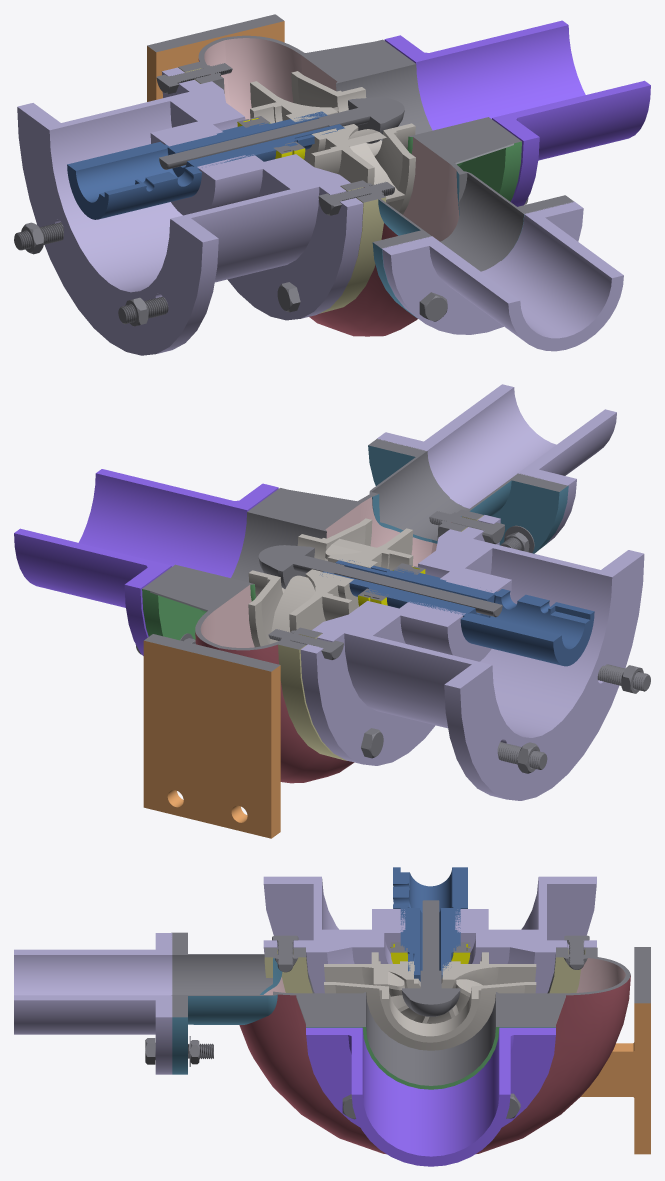
Rendered from Pump xsection-fbx.fbx.
3 views of the same model, one above another, from view 1: azimuth 30°, elevation 25°; view 2: azimuth 150°, elevation 25°; view 3: azimuth 270°, elevation 25° (orthographic). The views are drawn at different scales.
Visible parts, largest first — view 1: /private/var/mobile/Containers/Data/Application/2B57A06F-545; view 2: /private/var/mobile/Containers/Data/Application/2B57A06F-545; view 3: /private/var/mobile/Containers/Data/Application/2B57A06F-545.
Boxes of the visible parts, x1,y1,x2,y2 form: /private/var/mobile/Containers/Data/Application/2B57A06F-545: [14, 14, 650, 355]; /private/var/mobile/Containers/Data/Application/2B57A06F-545: [14, 384, 650, 838]; /private/var/mobile/Containers/Data/Application/2B57A06F-545: [14, 867, 650, 1166].
Bounding box in the file's own units: 33.53 × 12 × 38.24.
